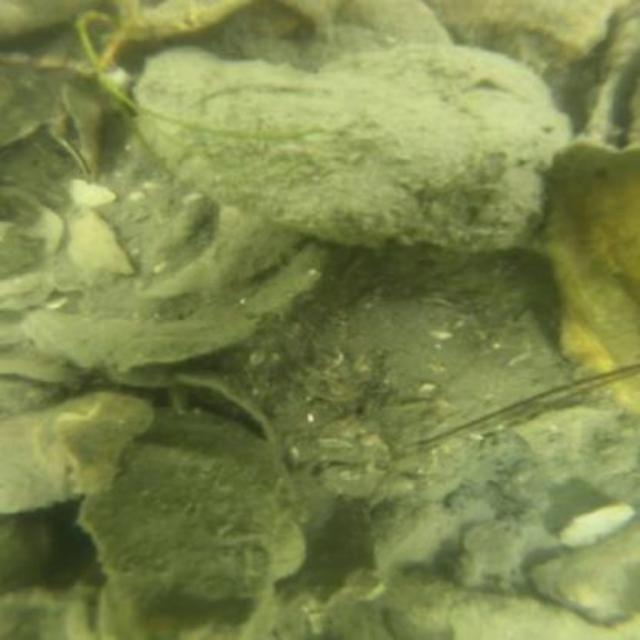Oyster-Closed: (133, 36, 583, 255), (72, 441, 308, 638)
